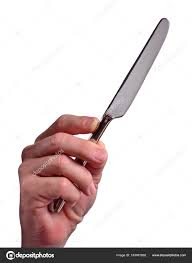knife: (49, 15, 173, 219)
